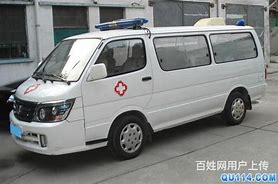specialcar: (17, 10, 263, 150)
